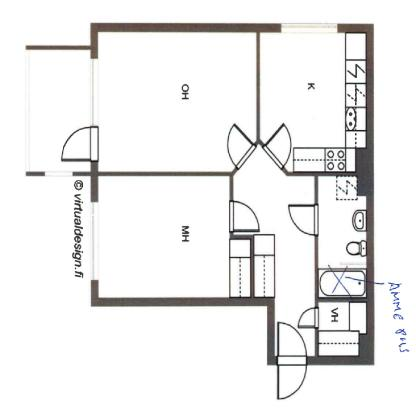door: (275, 322, 305, 402), (260, 121, 298, 170), (225, 121, 260, 171), (60, 122, 98, 166), (286, 202, 320, 238), (228, 201, 264, 234), (294, 298, 324, 334)
window: (90, 58, 100, 128), (91, 200, 99, 282), (280, 23, 338, 33)
zone: (97, 32, 259, 171), (98, 177, 250, 302), (232, 143, 318, 355), (259, 31, 365, 173), (28, 48, 91, 172), (320, 174, 367, 298), (316, 300, 369, 359)
